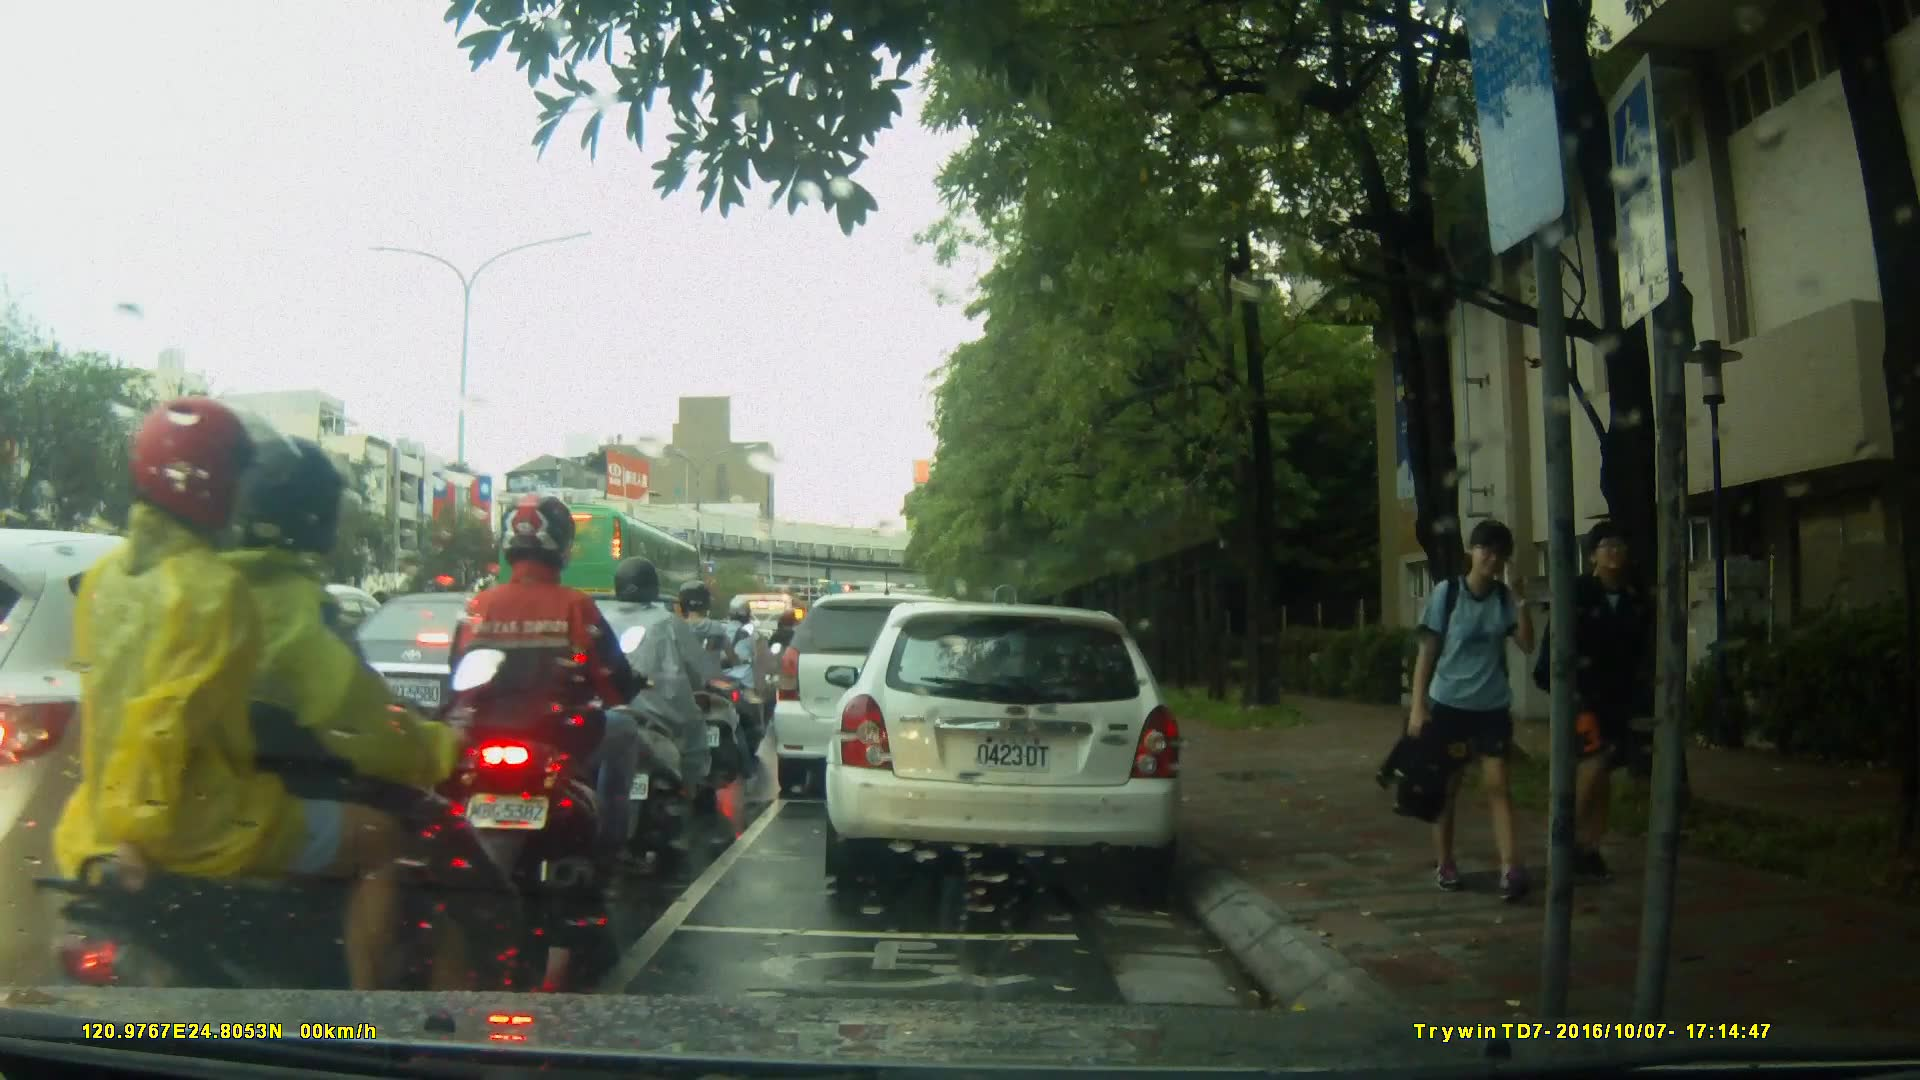pedestrian: (1374, 519, 1553, 904), (1535, 526, 1675, 899)
rider: (51, 396, 513, 1080), (440, 484, 649, 959), (581, 556, 737, 871), (661, 574, 740, 803), (709, 594, 781, 749), (767, 603, 811, 718)
vehicle: (1, 530, 456, 988), (831, 592, 1196, 897), (322, 590, 629, 776), (770, 590, 999, 803), (495, 501, 707, 636)
